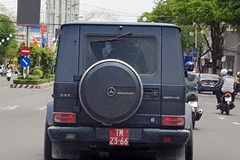plate: (108, 127, 132, 147)
